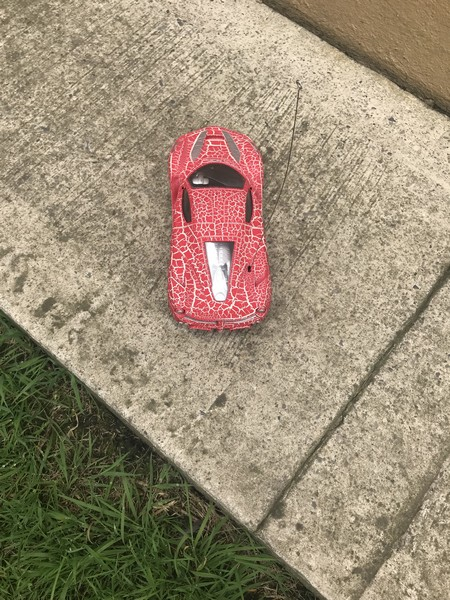RC: (167, 124, 272, 333)
